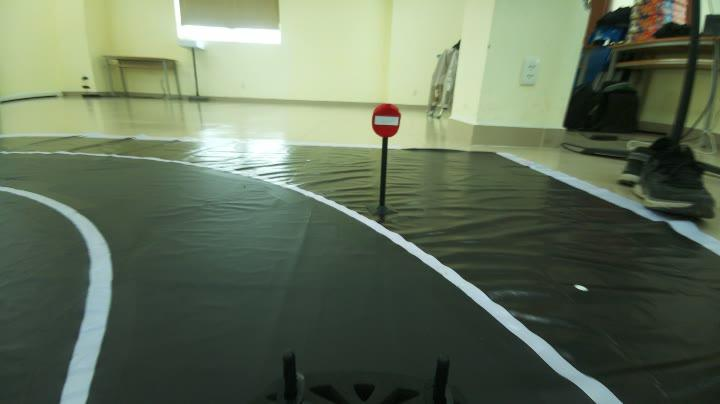no_entry: (366, 100, 406, 138)
